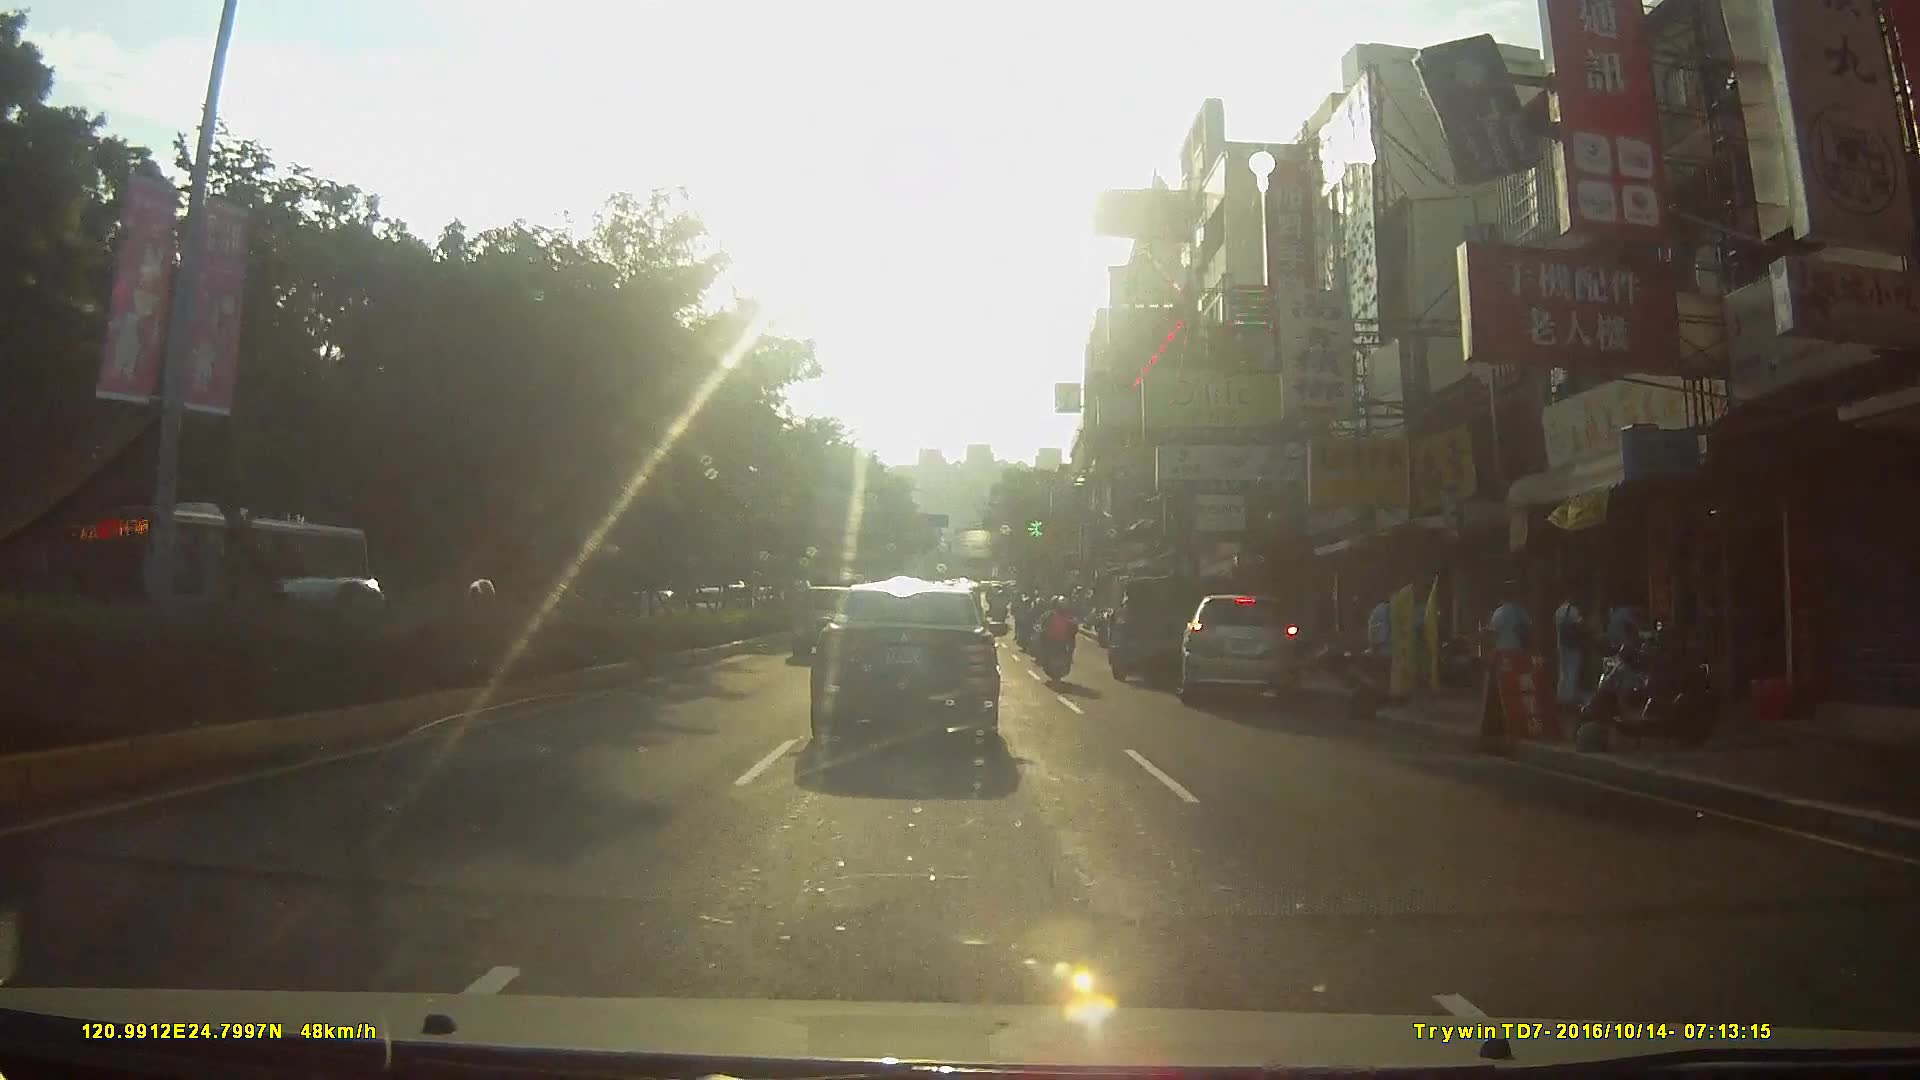pedestrian: (1486, 588, 1534, 713), (1552, 587, 1586, 719), (1601, 585, 1636, 699), (1366, 588, 1401, 685)
rider: (1036, 595, 1080, 692), (1015, 596, 1042, 657)
vehicle: (88, 507, 371, 666), (813, 591, 1029, 773), (1176, 595, 1322, 721), (1100, 569, 1218, 692)
